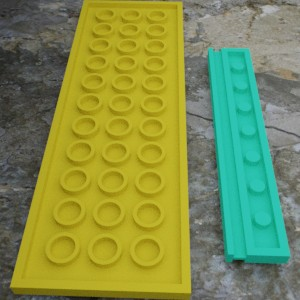lego: (9, 0, 191, 299), (207, 47, 290, 263)
